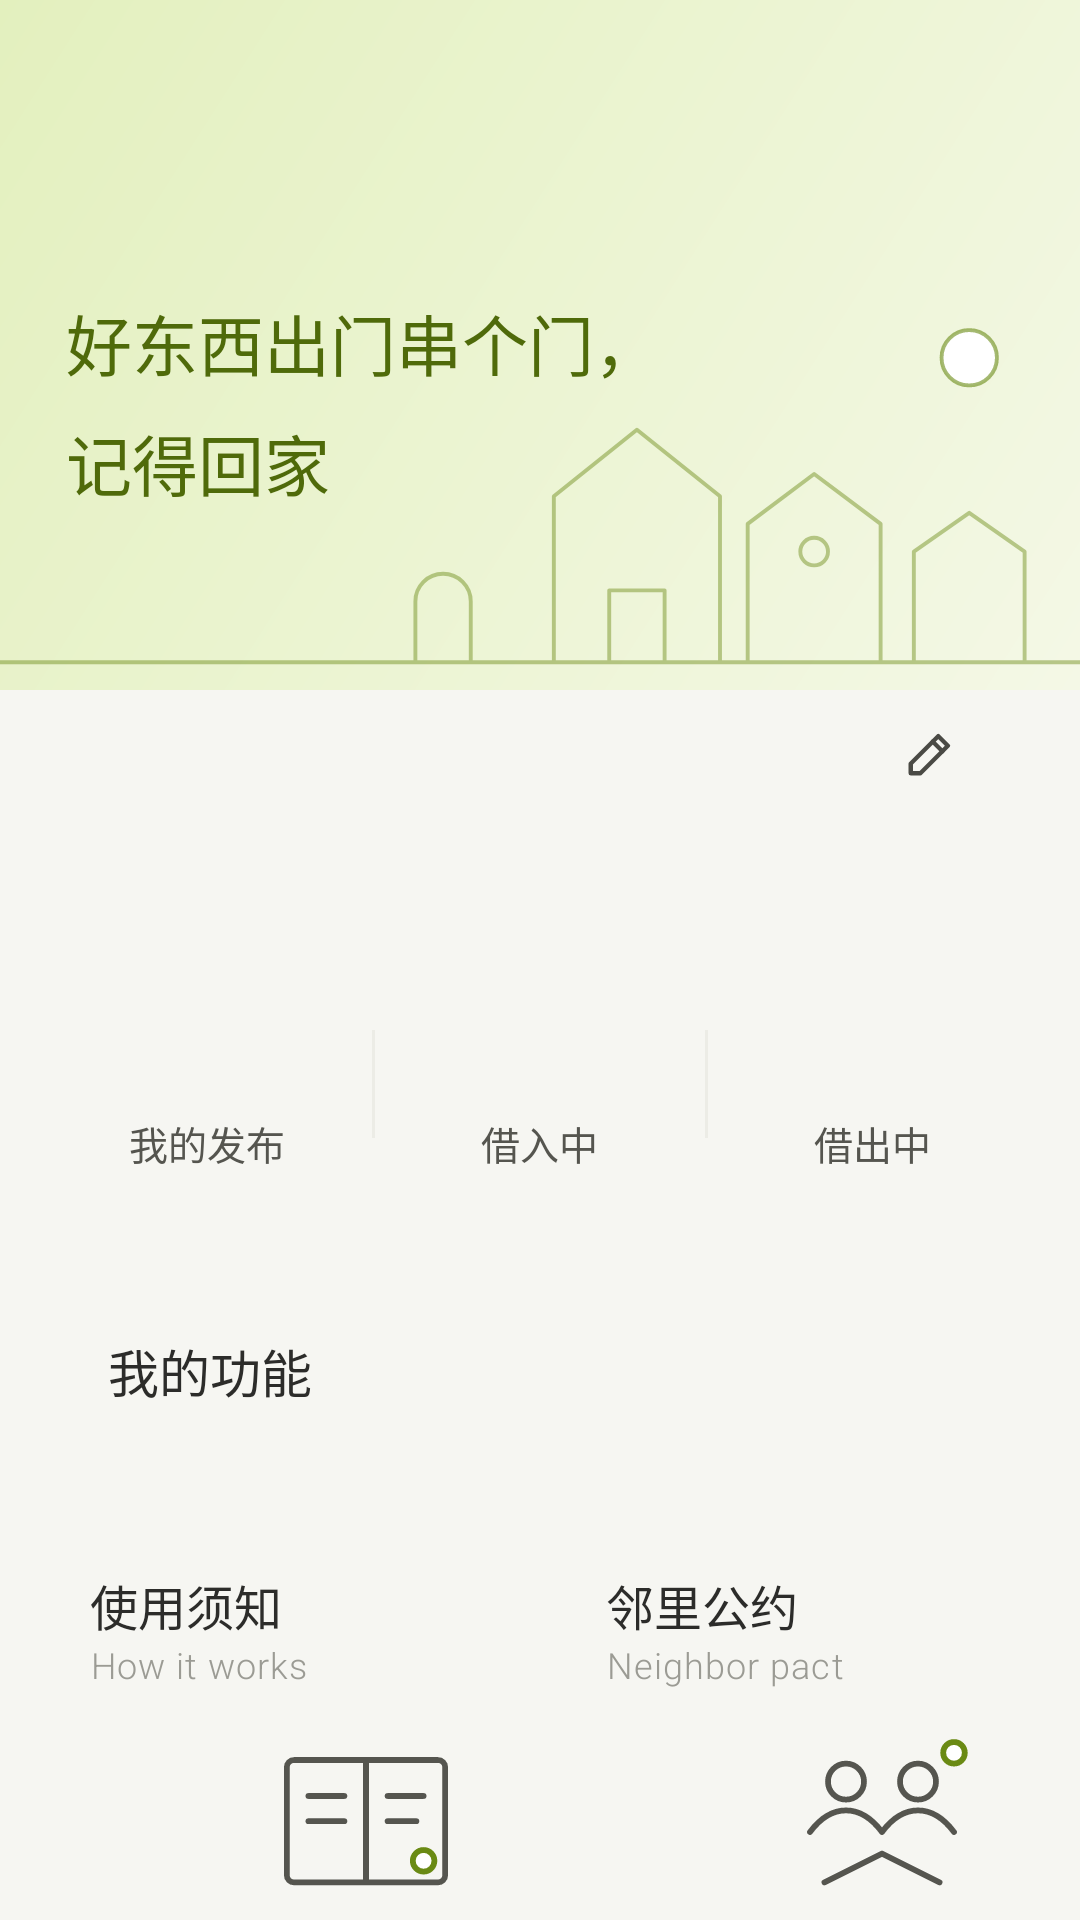

Icon bounding boxes for this 1080 × 1920 phone screenshot, format bbox=(x1, y1, x2, y2):
ill guide: bbox=(284, 1757, 448, 1886)
ill pact: bbox=(807, 1739, 968, 1886)
编辑资料: bbox=(908, 734, 950, 776)
